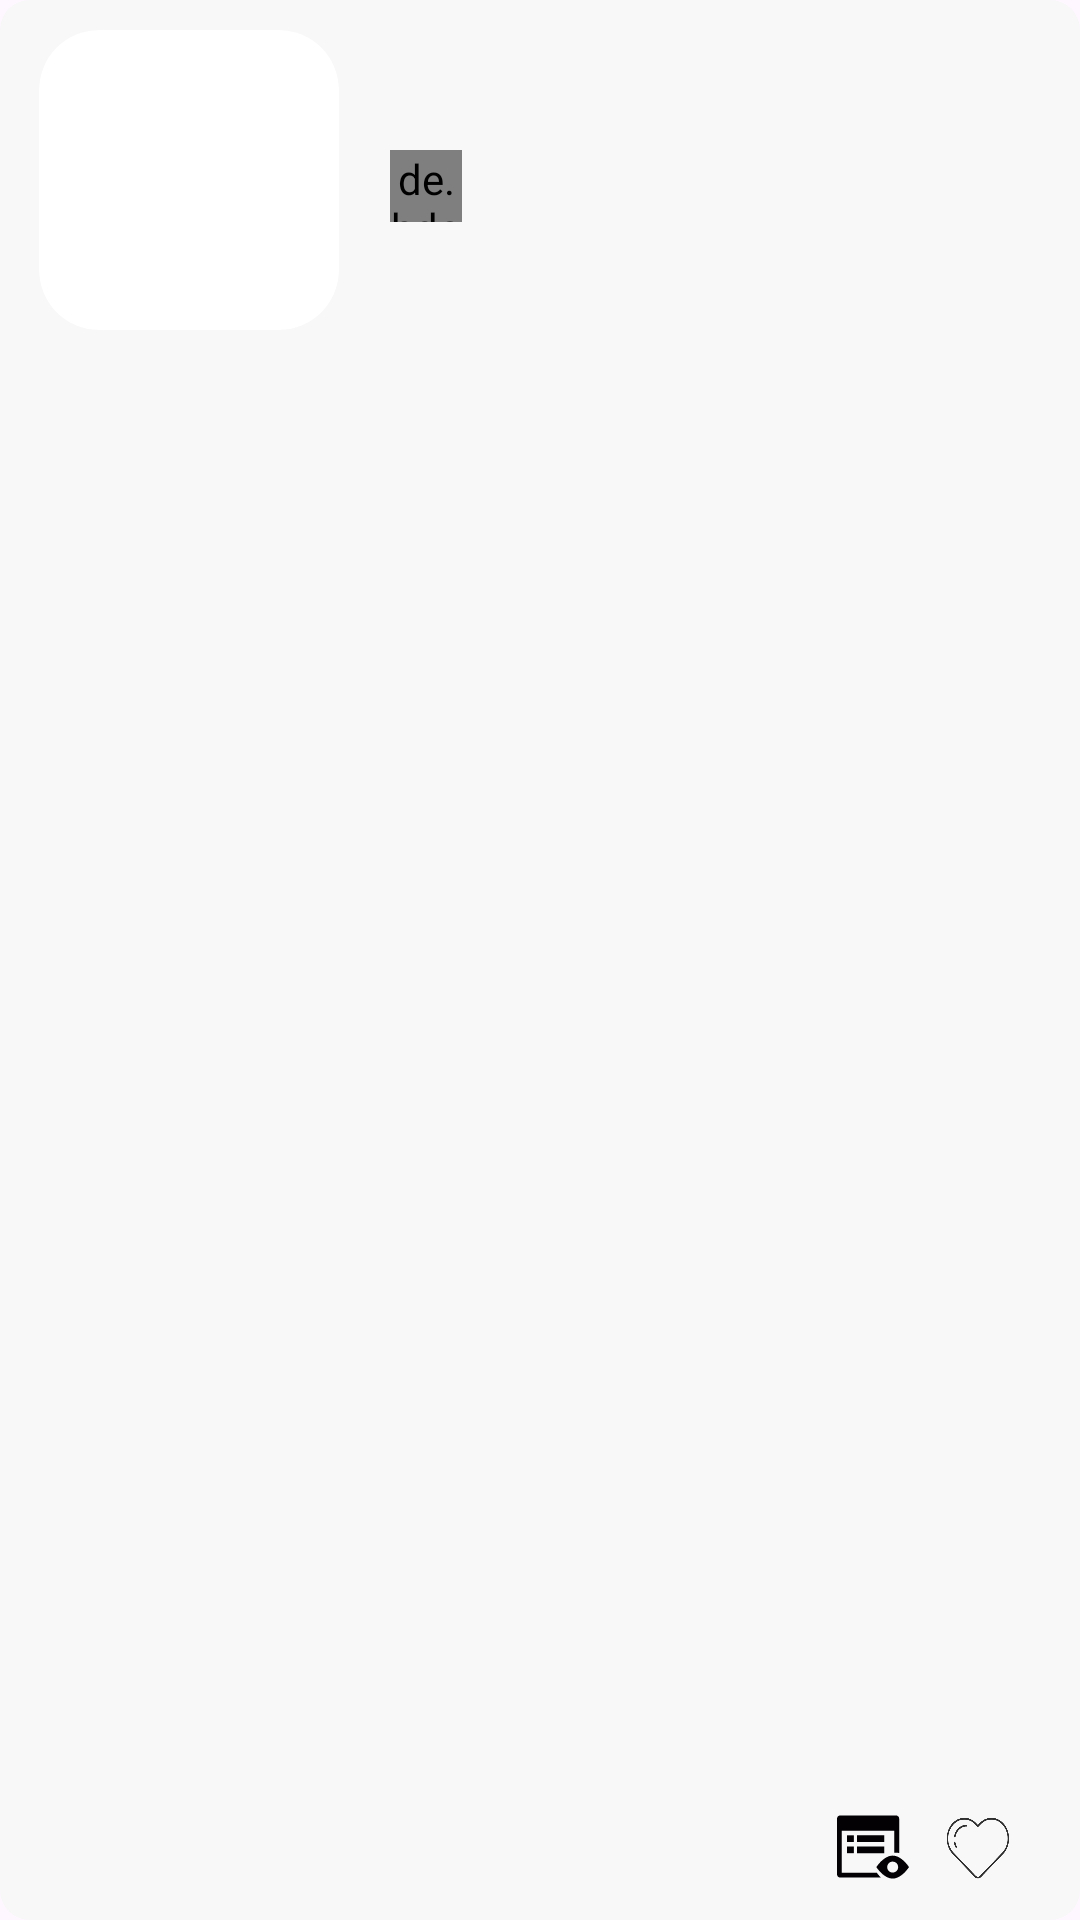

Icon bounding boxes for this 1080px×1920px phone screenshot, format [x1, y1, x2, y2]:
heart: [947, 1818, 1009, 1879]
